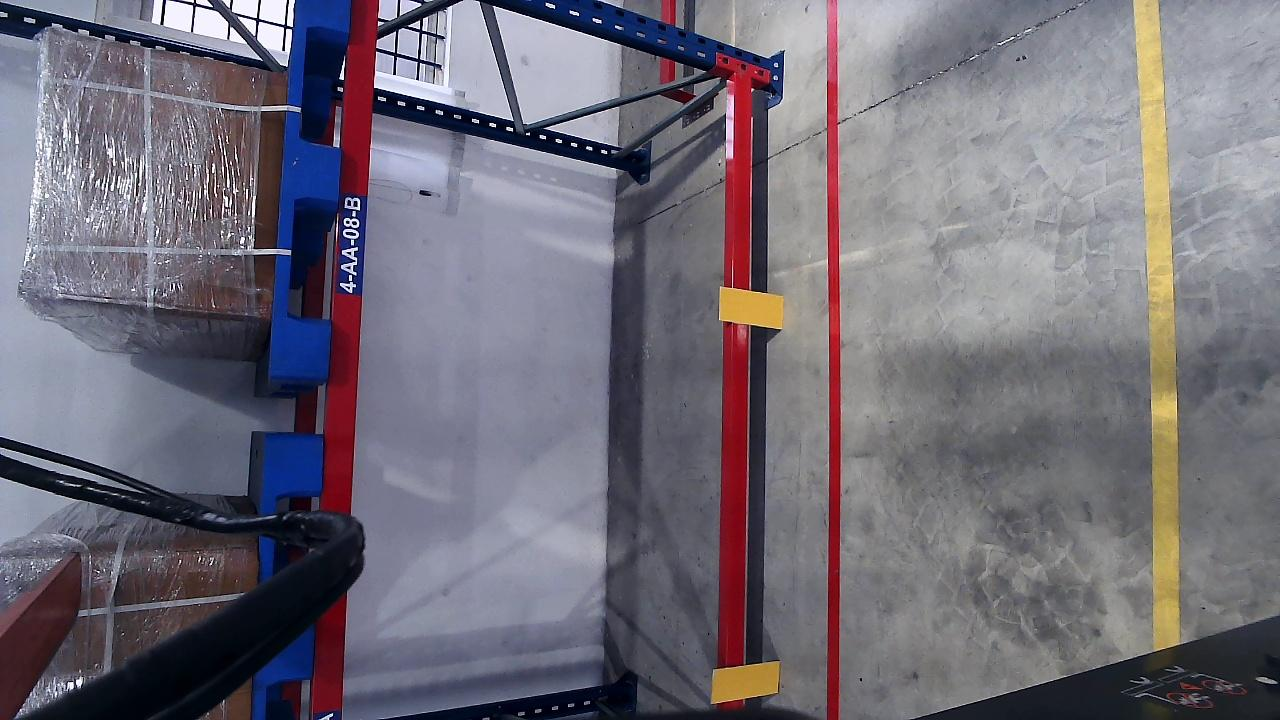h_rack: (320, 0, 380, 513), (725, 76, 758, 560)
orange_strip: (711, 660, 780, 702), (719, 285, 784, 328)
red_line: (822, 83, 844, 702)
yellow_line: (1135, 0, 1182, 600)
